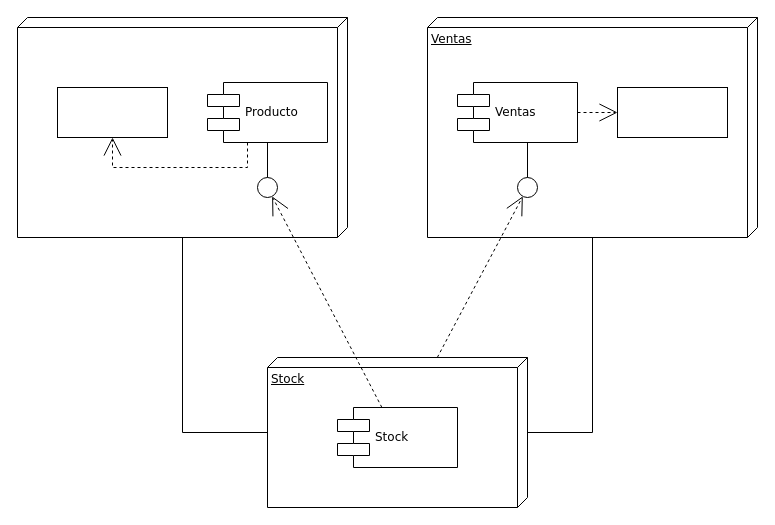
The diagram is 775 pixels wide and 525 high, and some of its shapes have lost their labels. Each missing label, with the box of its shape:
Productos: (16, 16, 348, 238)
«interface» ProductoLogic: (56, 86, 168, 138)
«interface» VentasLogic: (616, 86, 728, 138)
